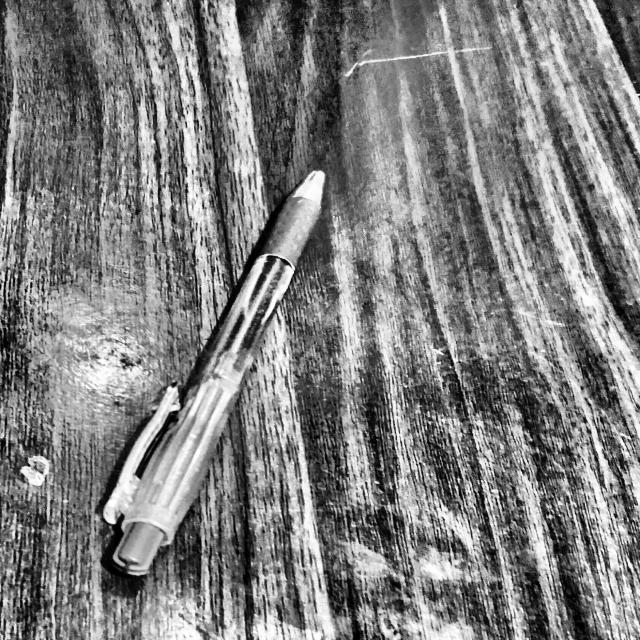Pen: (89, 156, 368, 580)
